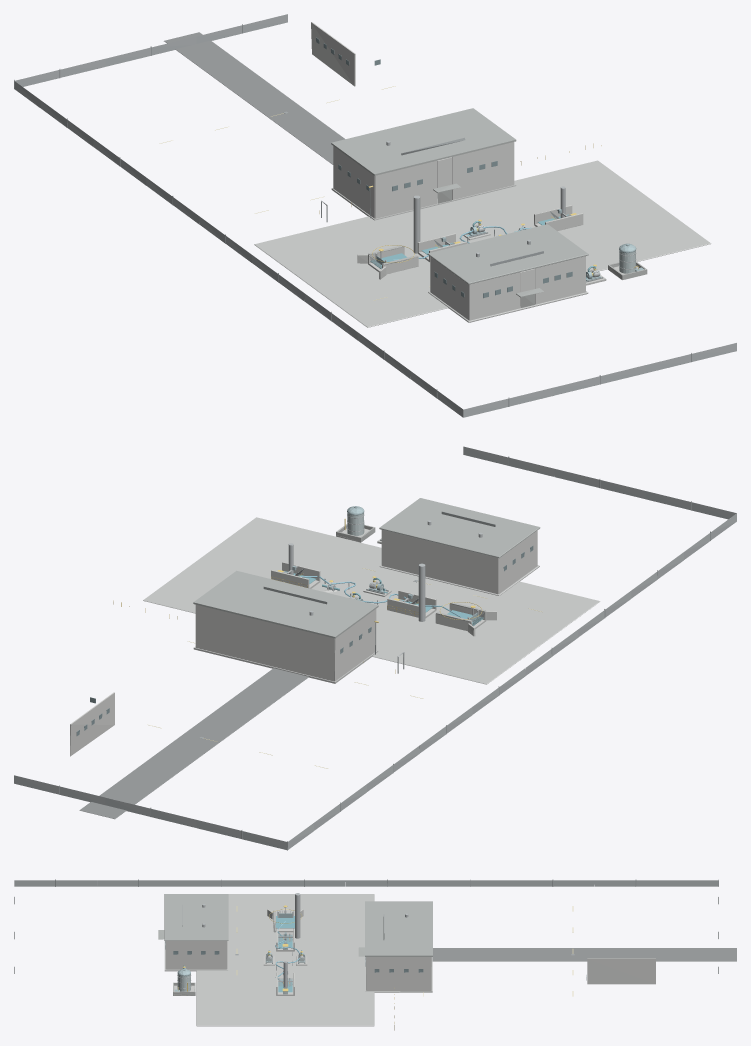
The picture shows the model from 3 angles, top to bottom: view 1: azimuth 30°, elevation 25°; view 2: azimuth 150°, elevation 25°; view 3: azimuth 270°, elevation 25°; orthographic projection. The views are drawn at different scales.
Parts seen in each view (by area): view 1: render-batch-13, render-batch-15, render-batch-8, render-batch-9, render-batch-2, render-batch-14, render-batch-0, render-batch-5; view 2: render-batch-13, render-batch-15, render-batch-8, render-batch-9, render-batch-2, render-batch-14, render-batch-5; view 3: render-batch-13, render-batch-8, render-batch-15, render-batch-9, render-batch-2, render-batch-14, render-batch-1, render-batch-12, render-batch-4.
Part boxes in pixels (x1=…): render-batch-13: x1=254, y1=160, x2=711, y2=327; render-batch-15: x1=311, y1=22, x2=585, y2=320; render-batch-8: x1=331, y1=108, x2=588, y2=297; render-batch-9: x1=14, y1=14, x2=736, y2=417; render-batch-2: x1=164, y1=32, x2=345, y2=164; render-batch-14: x1=357, y1=205, x2=645, y2=285; render-batch-0: x1=316, y1=37, x2=572, y2=298; render-batch-5: x1=14, y1=24, x2=691, y2=406; render-batch-13: x1=143, y1=517, x2=600, y2=684; render-batch-15: x1=70, y1=530, x2=537, y2=756; render-batch-8: x1=193, y1=498, x2=540, y2=638; render-batch-9: x1=14, y1=446, x2=736, y2=849; render-batch-2: x1=79, y1=668, x2=308, y2=819; render-batch-14: x1=271, y1=528, x2=496, y2=636; render-batch-5: x1=59, y1=456, x2=710, y2=850; render-batch-13: x1=164, y1=894, x2=432, y2=1026; render-batch-8: x1=158, y1=894, x2=432, y2=956; render-batch-15: x1=165, y1=941, x2=655, y2=990; render-batch-9: x1=14, y1=880, x2=718, y2=987; render-batch-2: x1=432, y1=948, x2=736, y2=961; render-batch-14: x1=173, y1=909, x2=307, y2=995; render-batch-1: x1=183, y1=916, x2=302, y2=992; render-batch-12: x1=177, y1=946, x2=303, y2=994; render-batch-4: x1=183, y1=911, x2=305, y2=988.
Size of the model in its own units: 85.3 by 12.03 by 179.
